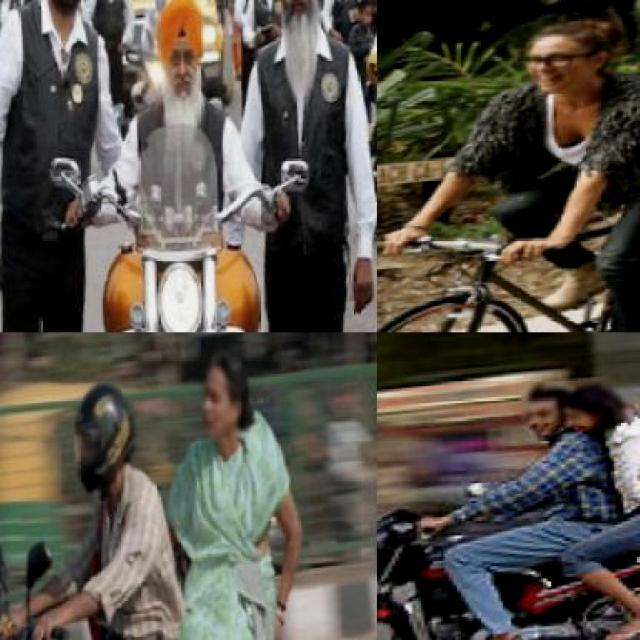With Helmet: (63, 368, 146, 500)
Without Helmet: (140, 0, 226, 111), (506, 16, 623, 96), (197, 346, 257, 440), (559, 377, 639, 428), (520, 380, 574, 426)
